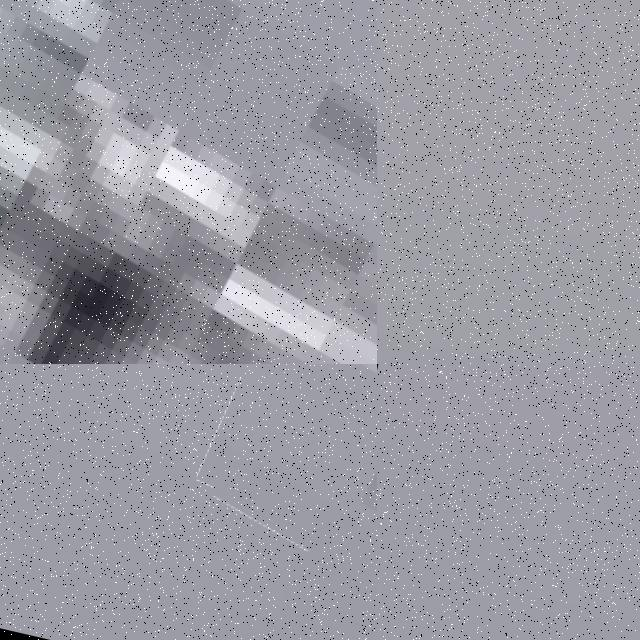drone: (0, 0, 377, 364), (205, 364, 377, 601)
